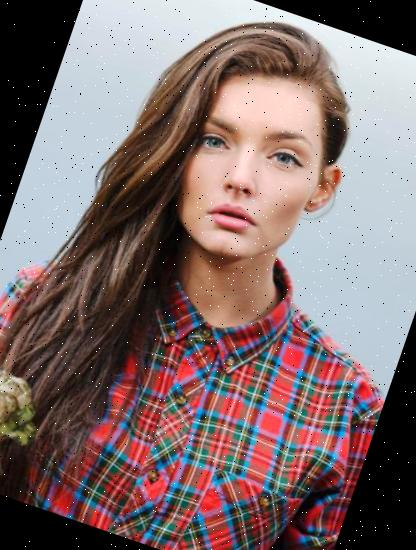Cauliflower: (0, 357, 54, 471)
